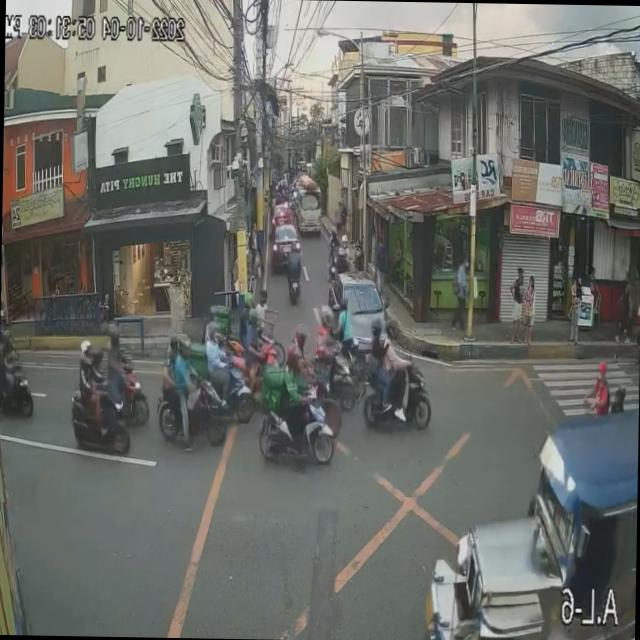full: (176, 334, 194, 360), (79, 338, 94, 366), (320, 303, 335, 328), (294, 322, 308, 346), (385, 317, 398, 340), (370, 317, 382, 335)
half: (284, 342, 302, 372), (205, 318, 219, 346)
